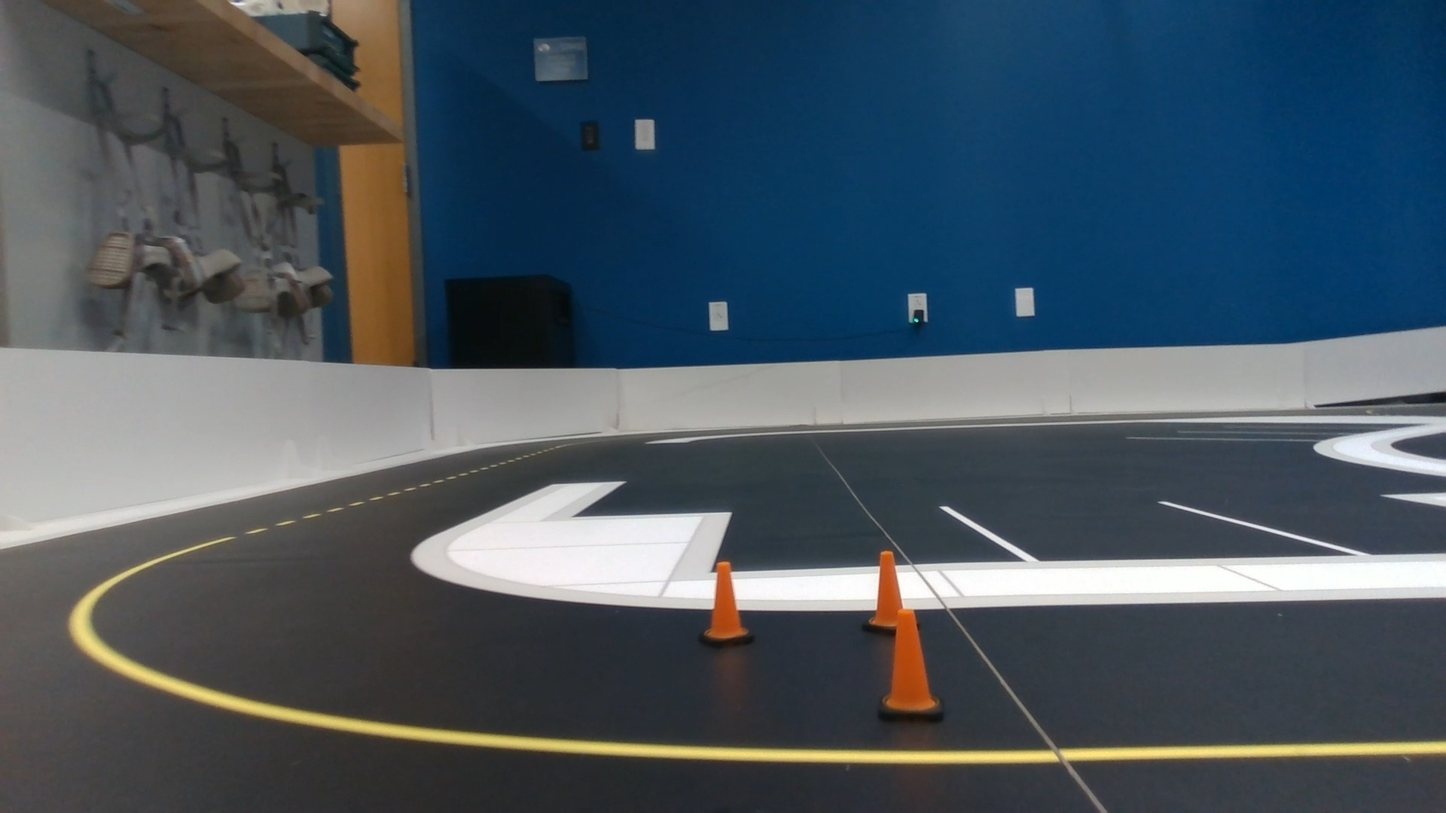Traffic Cone: (879, 609, 942, 720), (700, 562, 753, 646), (863, 551, 901, 635)
